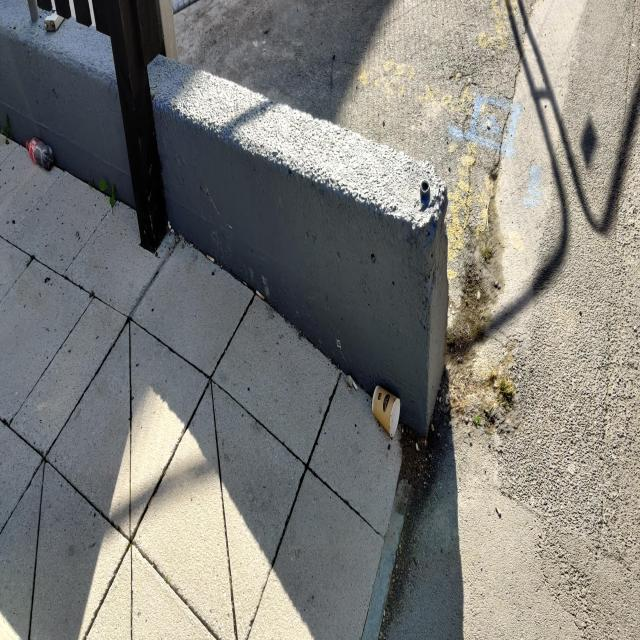litter: (354, 362, 412, 480), (22, 107, 65, 182)
